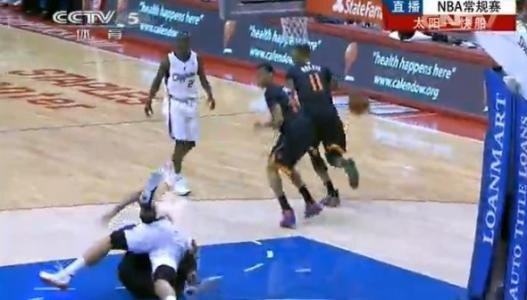falling: (30, 164, 216, 299)
